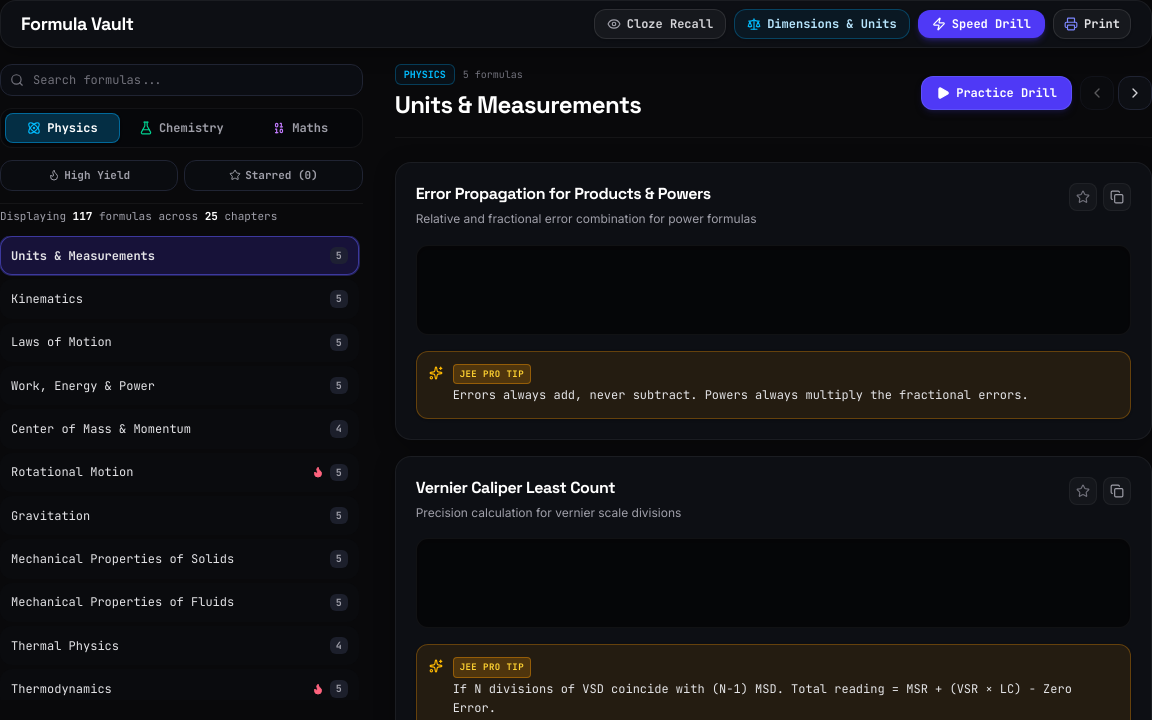
Test: FormulaVaultPage Feature View (Magnitude 5.1) › toggles Cloze Recall mode and allows revealing hidden formula
Click Cloze Recall button
Click the button "Cloze Recall": (660,24) [594, 9, 726, 39]
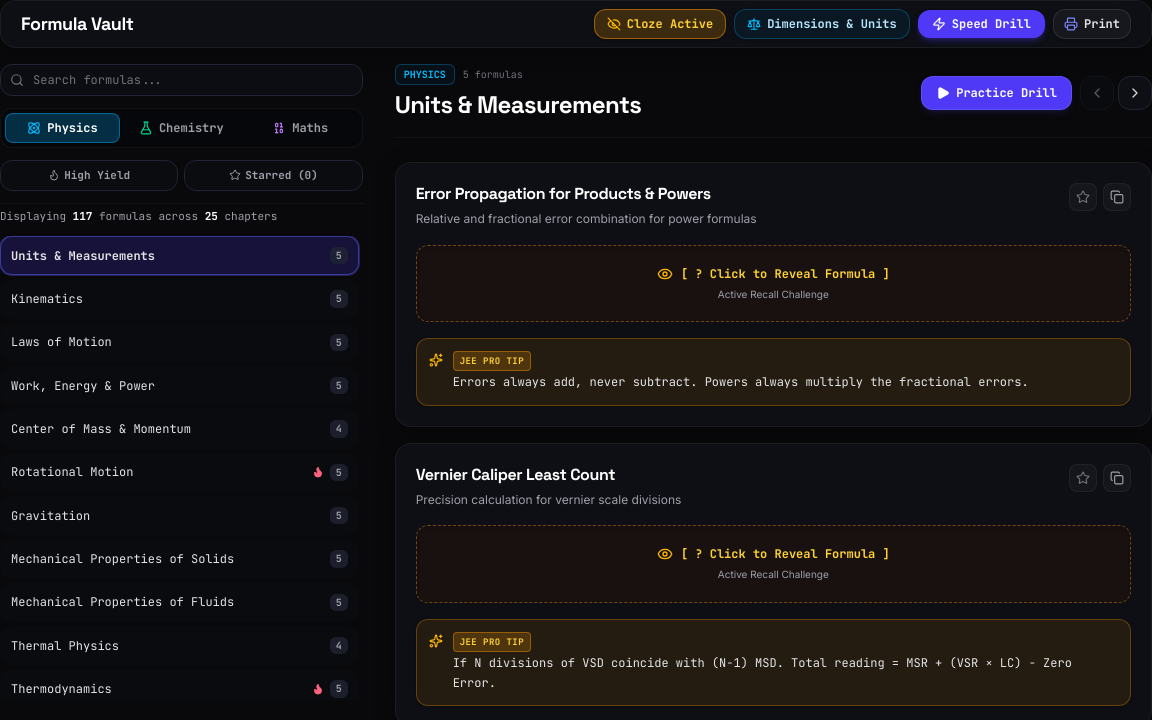
Check: the text "Cloze Active" is shown, box [627, 16, 713, 32]
Check: the text "[ ? Click to Reveal Formula ]" below "Error Propagation for Products & Powers" is shown
Click first reveal button
Click the text "[ ? Click to Reveal Formula ]" below "Error Propagation for Products & Powers": (785,274) [681, 266, 890, 282]
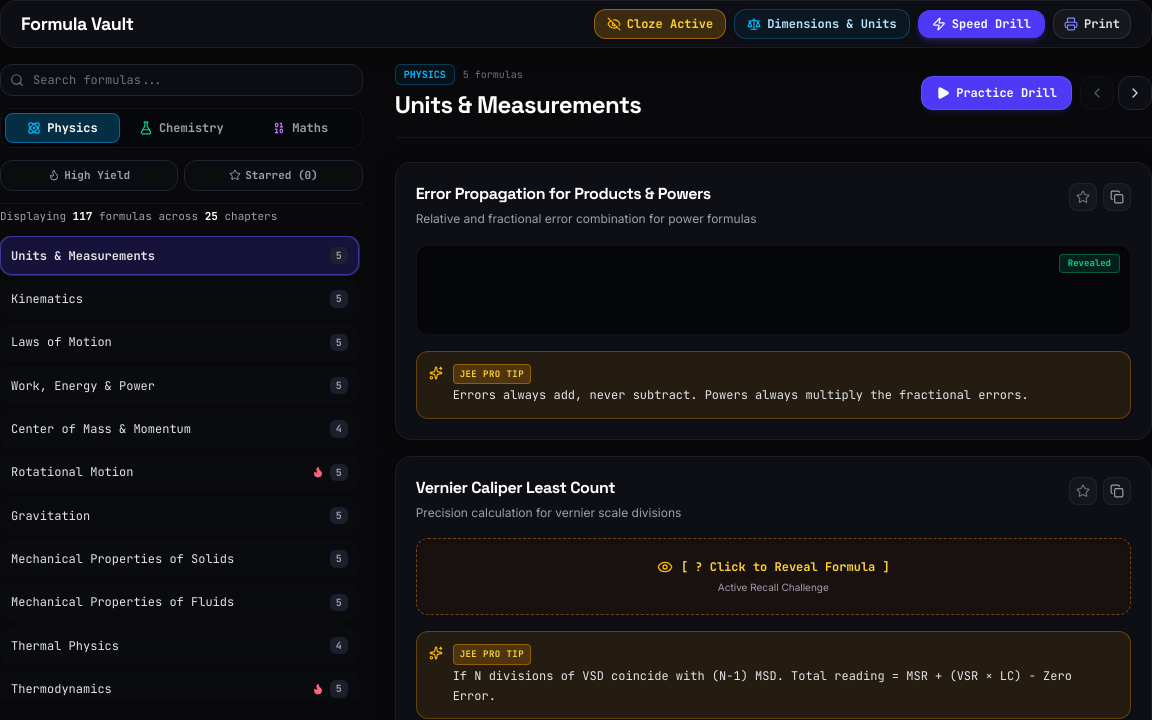
Check: the text "Revealed" is shown, box [1059, 254, 1120, 273]
